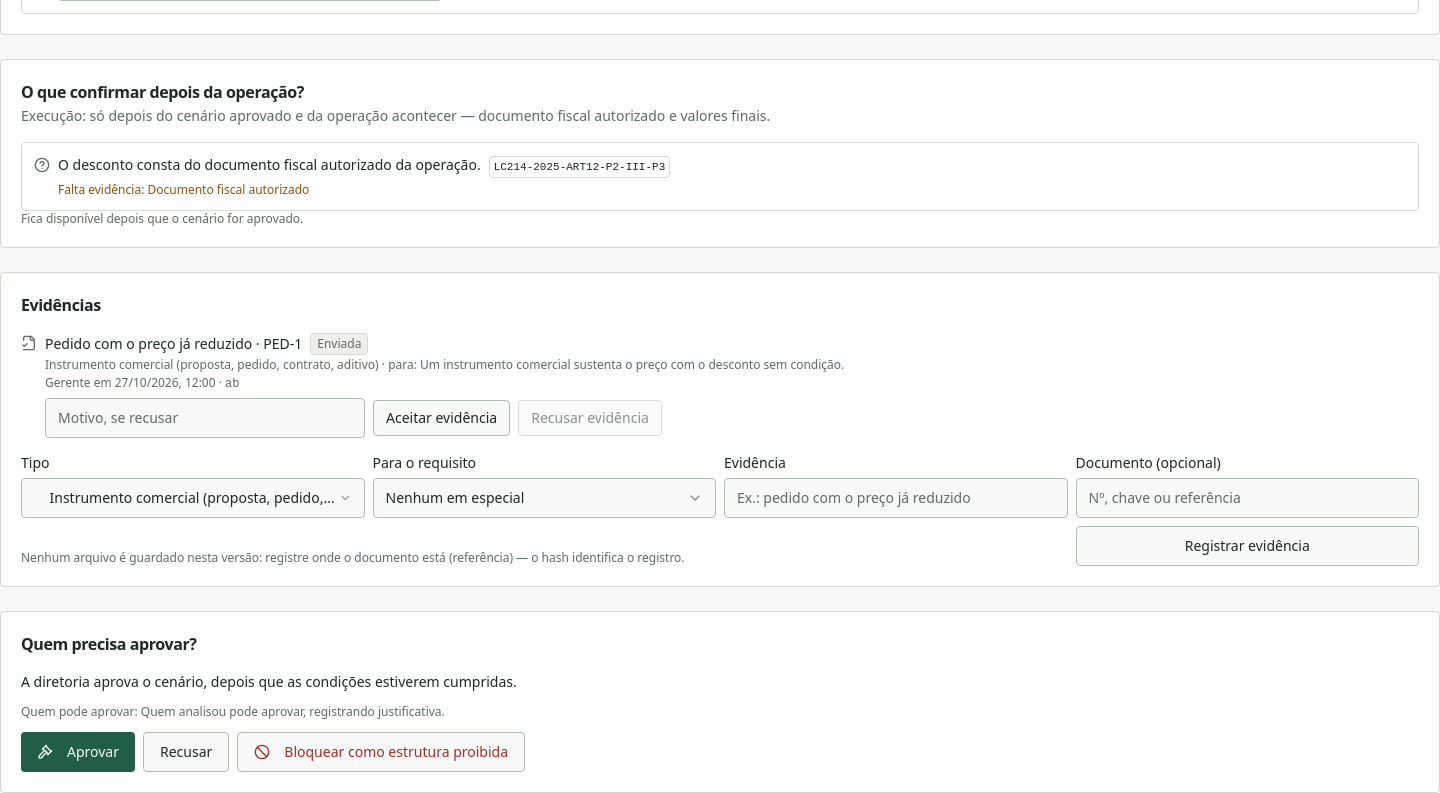
Test: TaxOpportunityDetailPage › warns that unmet requirements will be refused, without hiding the server's decision
The image size is (1440, 793).
(page scrolled)
Click the button "Aprovar".
click(78, 752)  # box [21, 732, 135, 772]
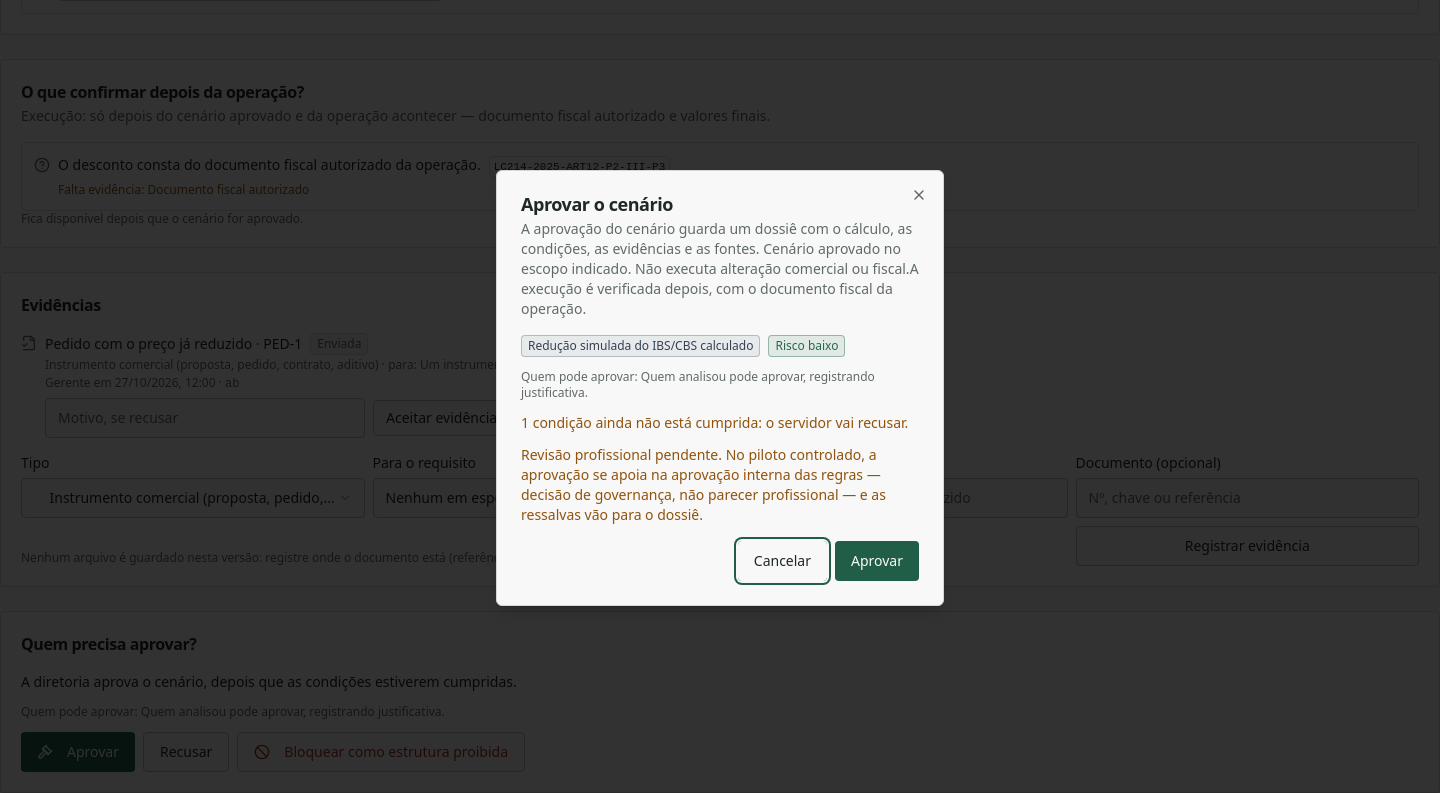
expect the text "1 condição ainda não está cumprida: o servidor vai recusar." is shown: met, box [521, 413, 919, 433]
